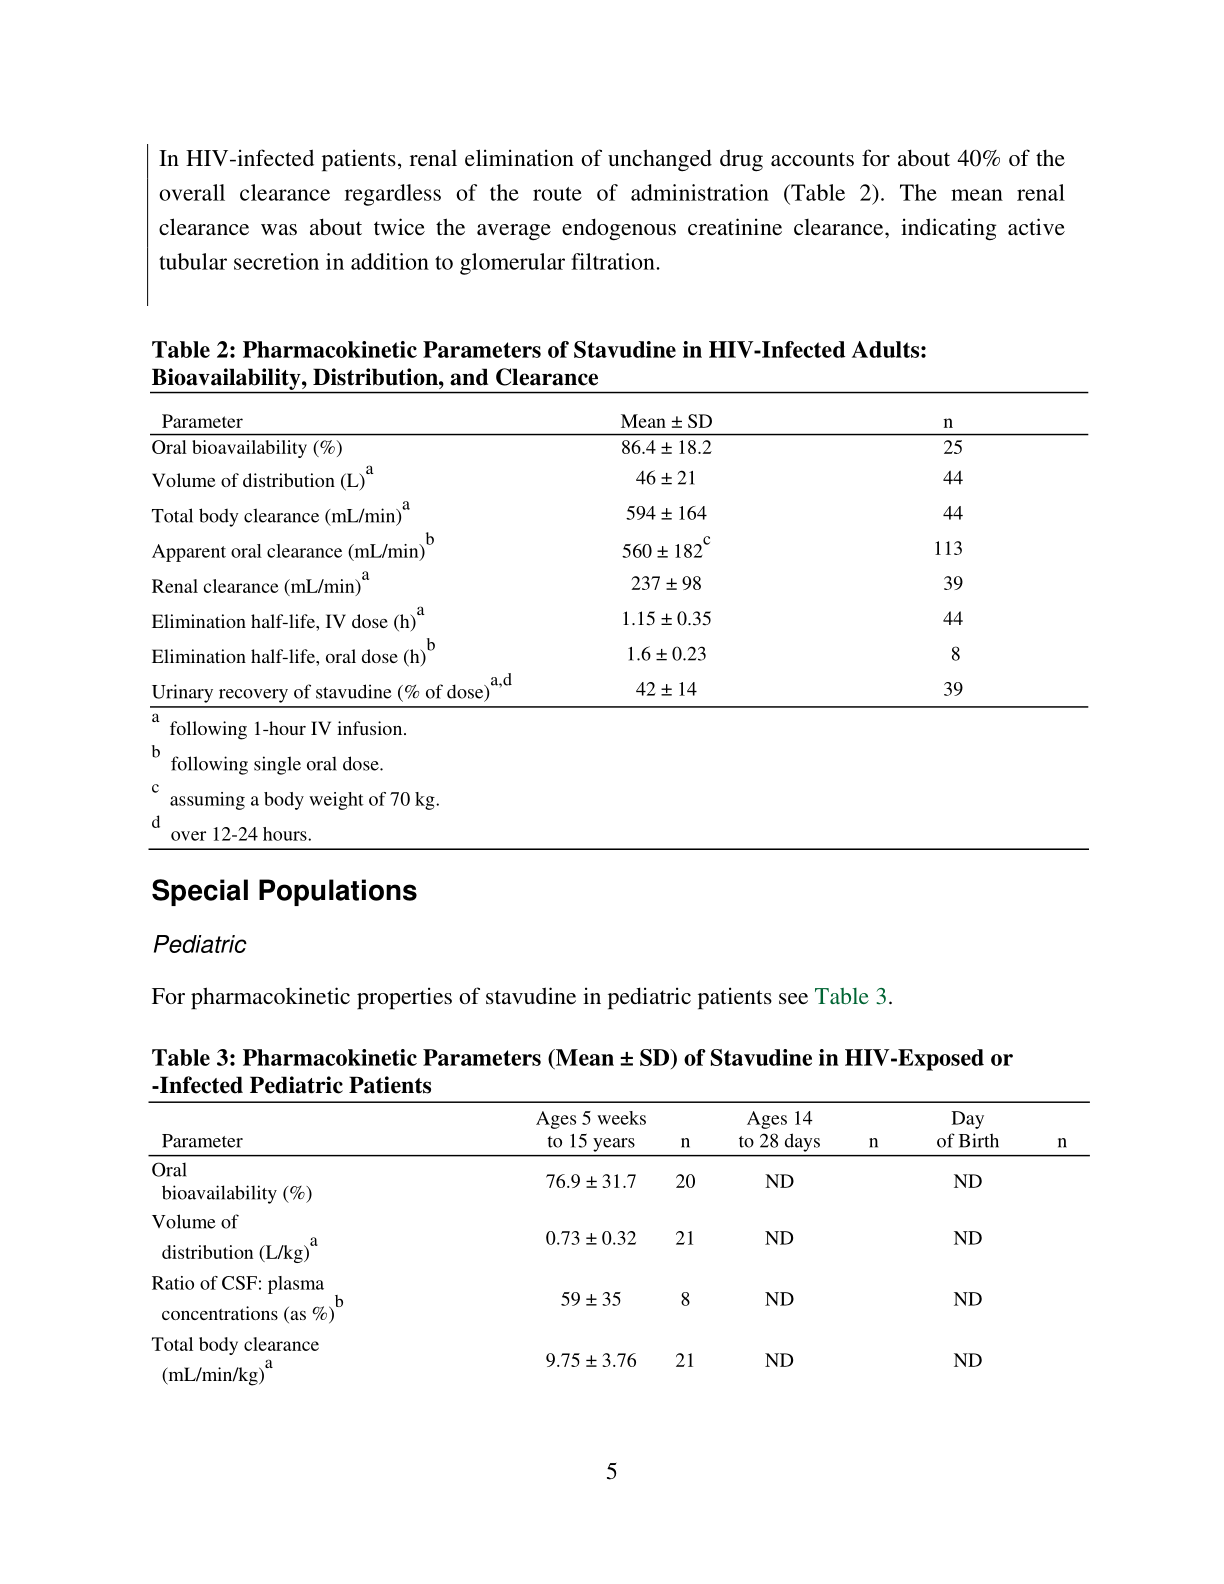partial_lined: (149, 391, 1089, 708), (148, 1101, 1092, 1386)
